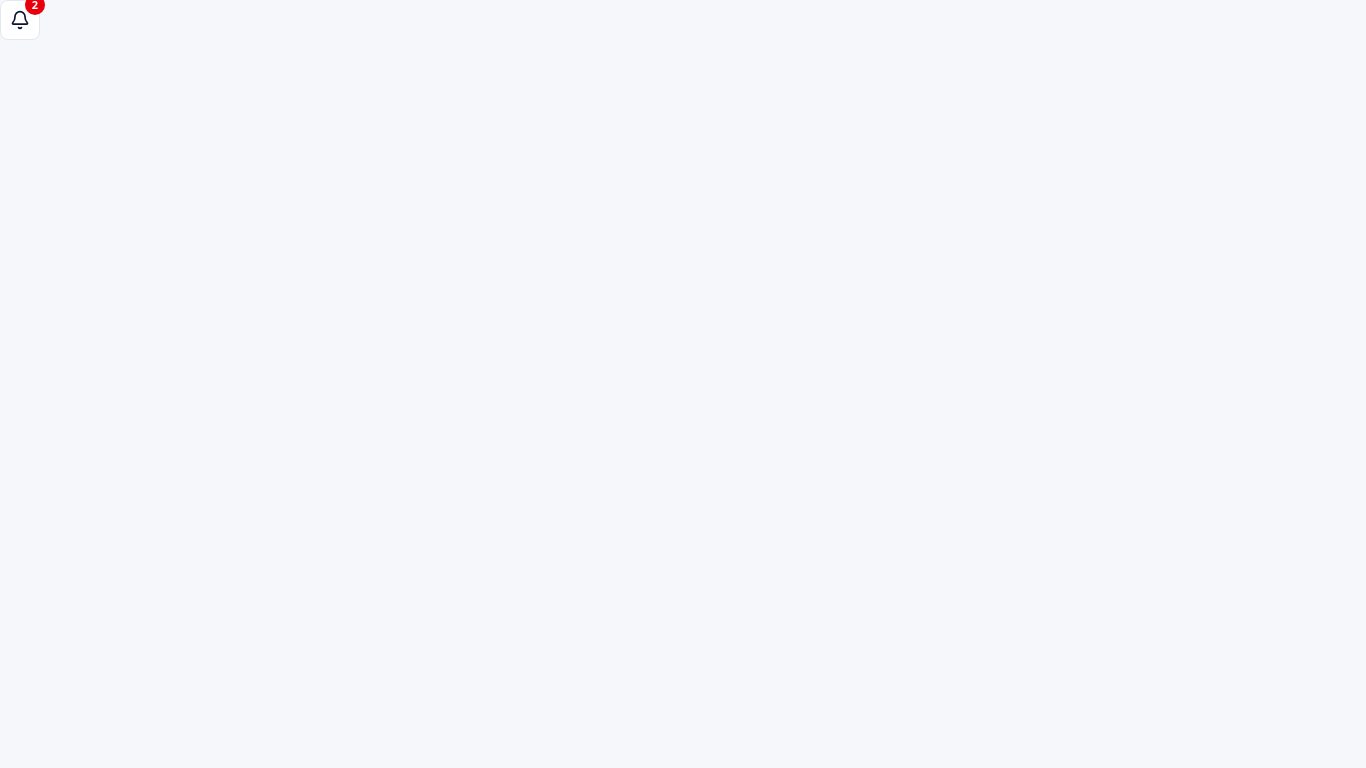
NotificationBell › shows a count and lists each item with a link to its service
This screenshot has width=1366, height=768.
Click the button named "Notifications, 2 need attention": (20,20) [0,0,40,40]
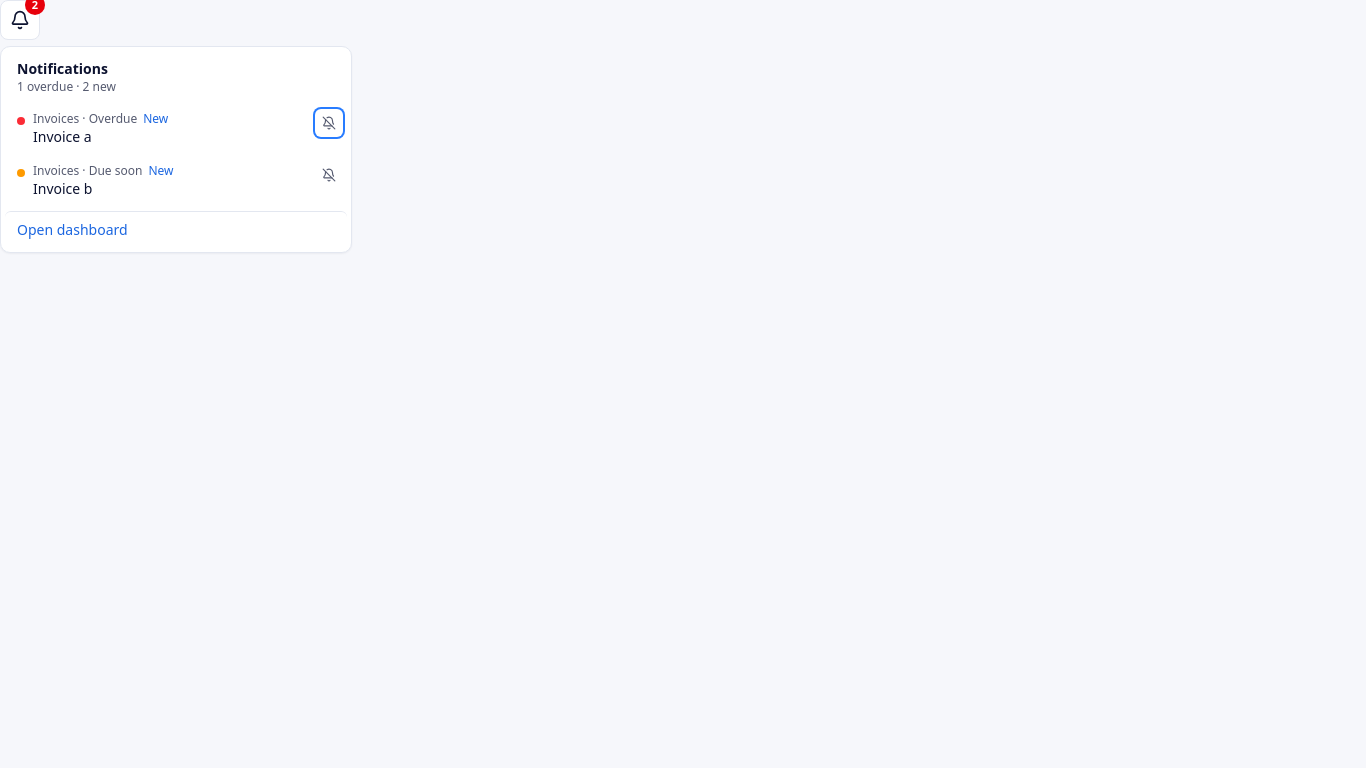
Expected: the link "Invoice b" is shown, [17,162,174,198]
